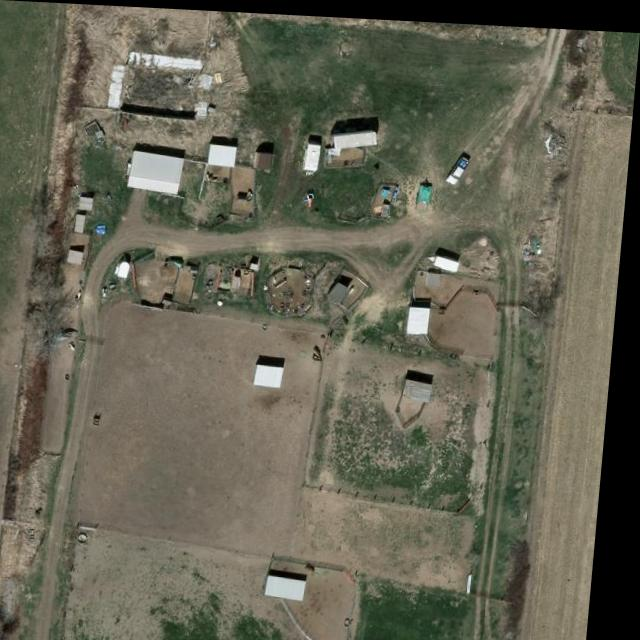vehicle: (449, 151, 475, 182)
